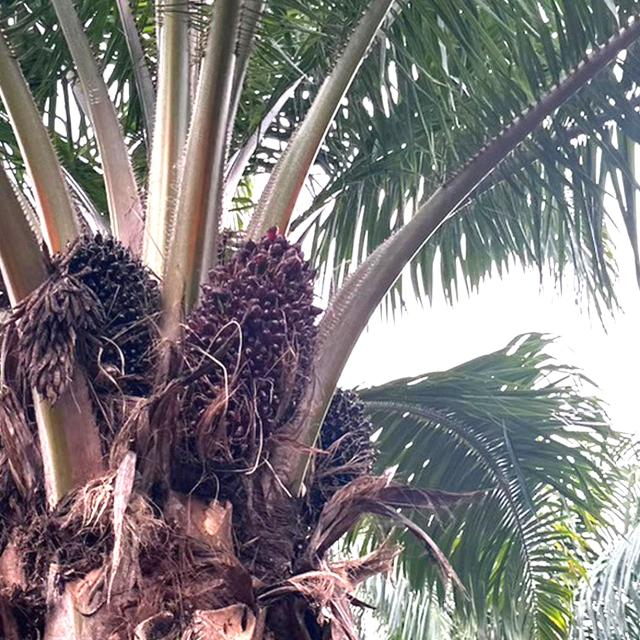ripe: (167, 213, 332, 467)
